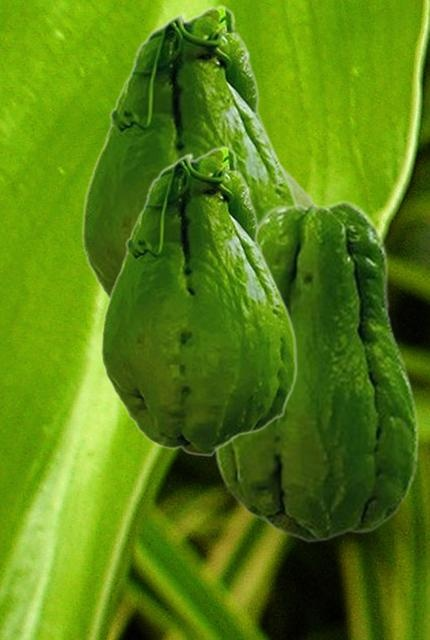sayote: (213, 199, 418, 542), (81, 4, 300, 298), (100, 145, 297, 456)
